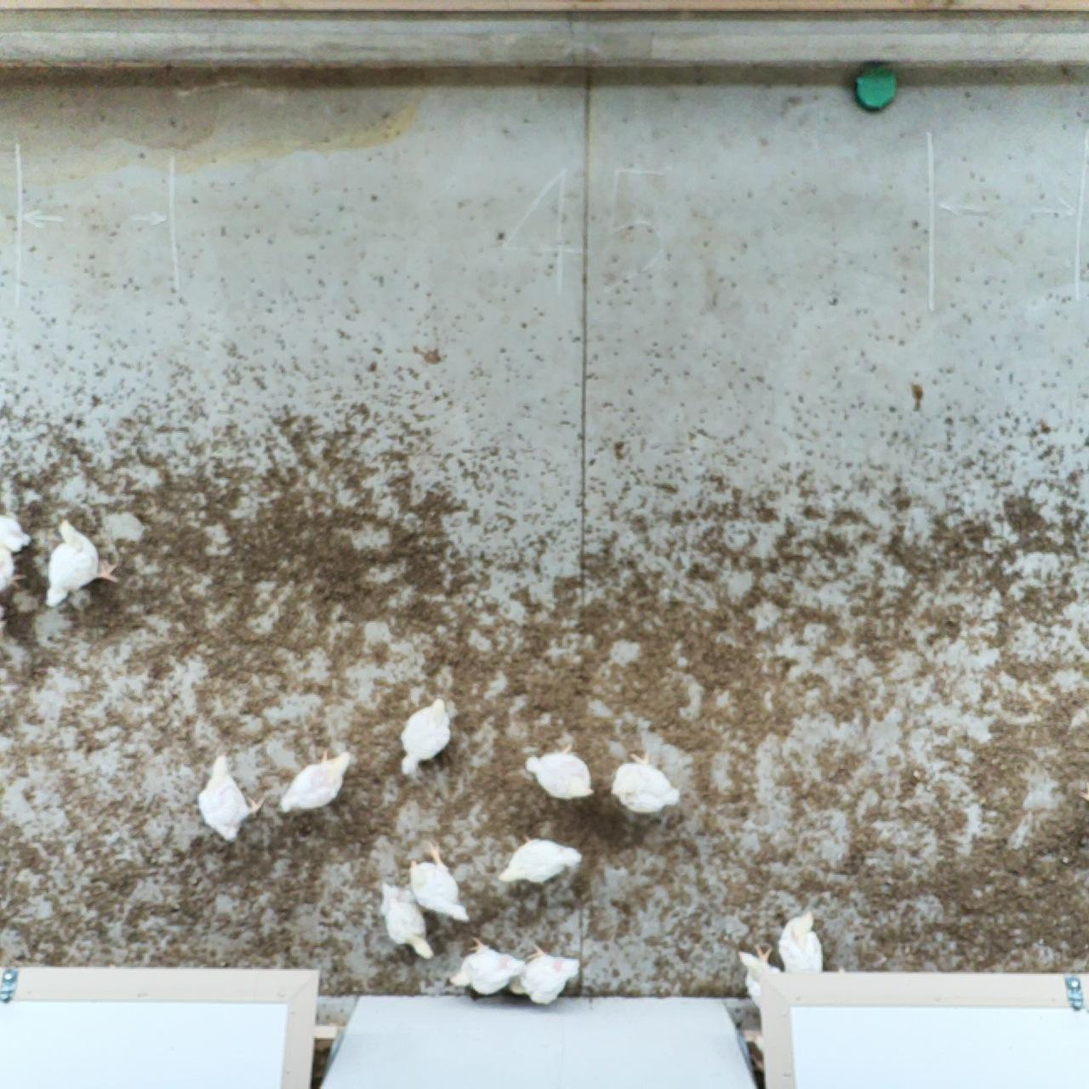chicken: (42, 517, 122, 617), (195, 752, 267, 845), (407, 836, 474, 927), (494, 830, 584, 895), (276, 745, 355, 818), (606, 745, 683, 817), (376, 876, 437, 964), (446, 934, 526, 999), (509, 938, 583, 1007), (524, 739, 599, 802), (398, 695, 455, 775), (775, 908, 828, 976), (735, 941, 783, 1011), (0, 546, 31, 599), (0, 507, 32, 558)
